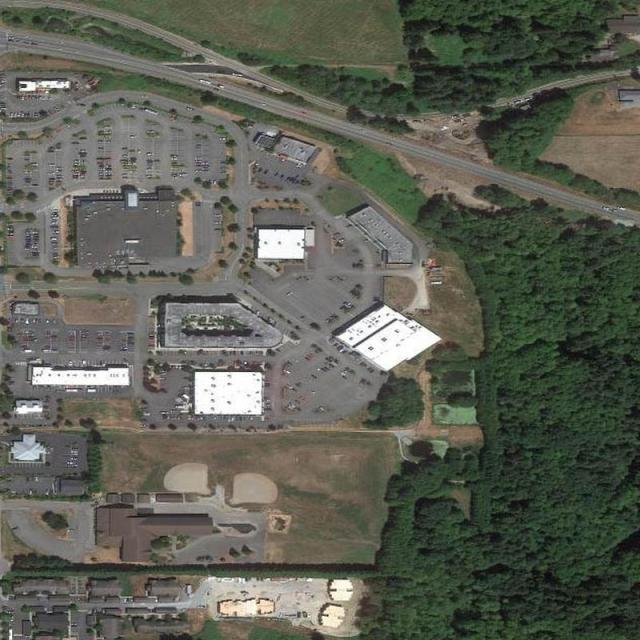vehicle: (199, 79, 211, 85), (218, 84, 226, 89), (233, 72, 242, 76)
